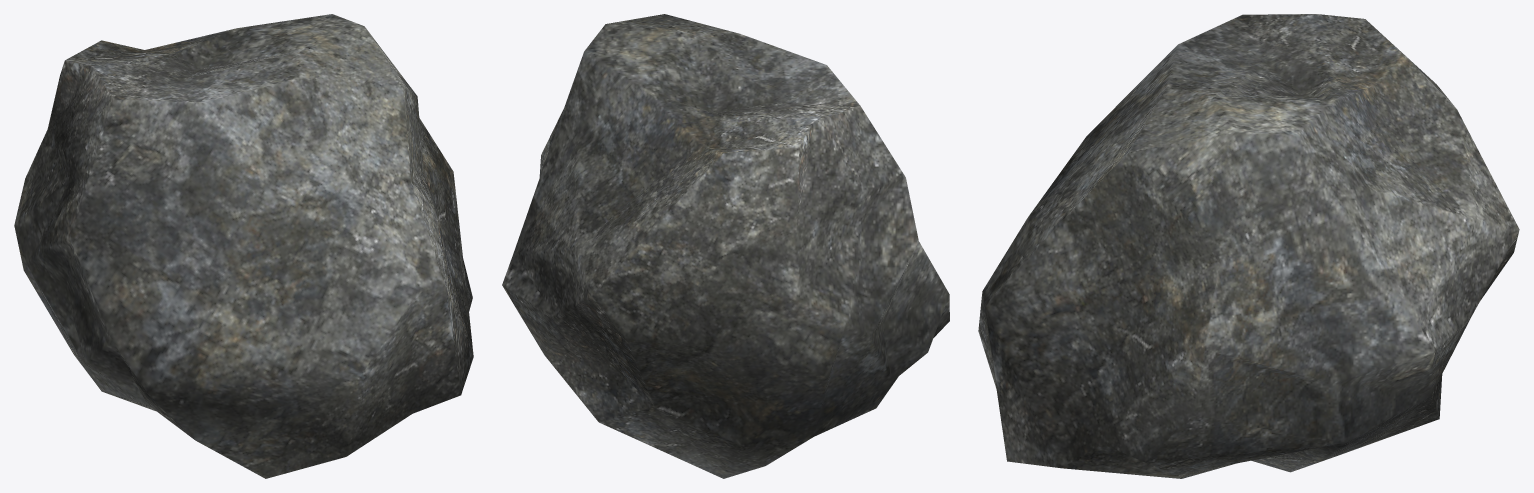
Rendered from FallingRock_2.dae.
3 views of the same model, side by side, from view 1: azimuth 30°, elevation 25°; view 2: azimuth 150°, elevation 25°; view 3: azimuth 270°, elevation 25° (orthographic). The views are drawn at different scales.
Visible parts, largest first — view 1: FallingRock02; view 2: FallingRock02; view 3: FallingRock02.
Boxes of the visible parts, x1,y1,x2,y2 form: FallingRock02: (14, 14, 473, 478); FallingRock02: (502, 14, 949, 478); FallingRock02: (978, 14, 1519, 478).
Size of the model in its own units: 88.95 by 99.33 by 83.85.
1 material, 1 textured.
